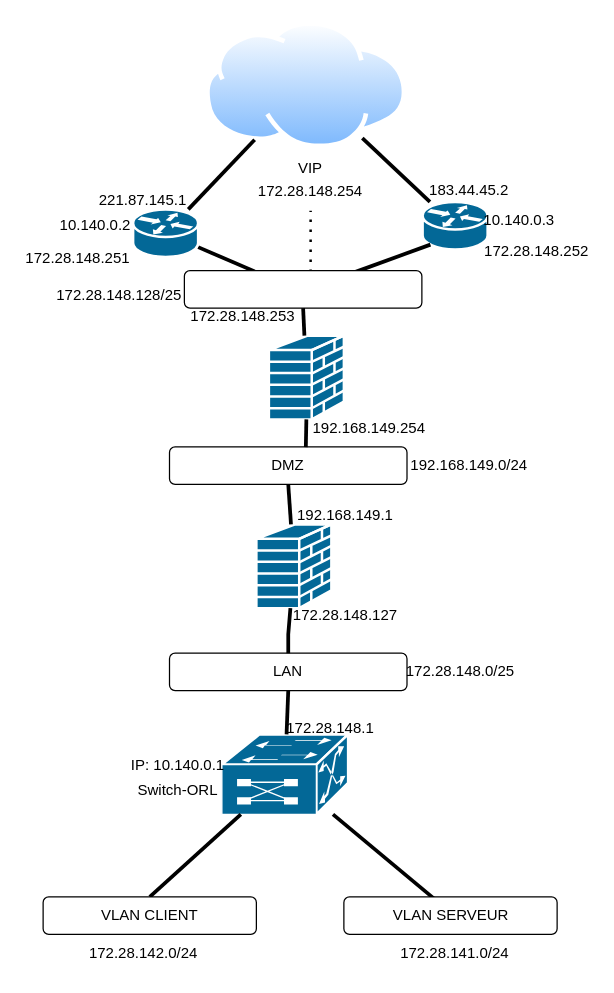
Some shapes in this 614 by 993 pixel diagram are drawn without their labels. Each missing label, with the centre of its shape:
"FAI" goes at (x=302, y=288).
"INTERNET" goes at (x=305, y=84).
